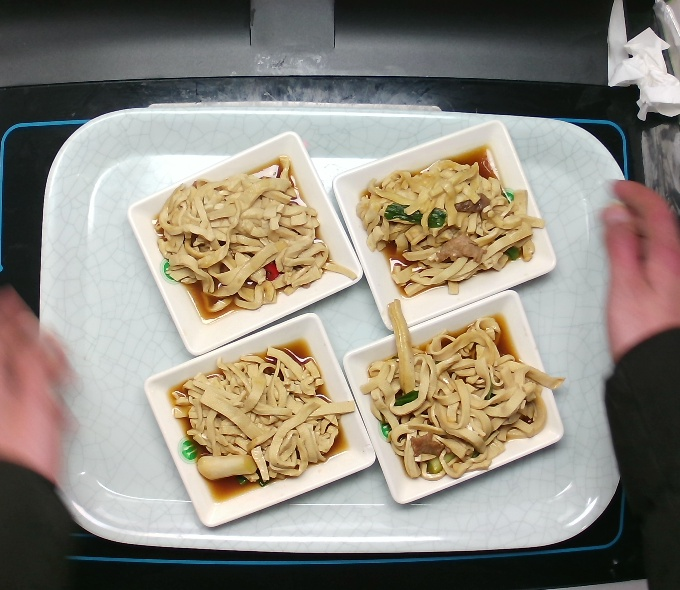wcq-QianZhang: (163, 329, 363, 515), (356, 312, 559, 490), (148, 147, 340, 330), (356, 138, 542, 301)
